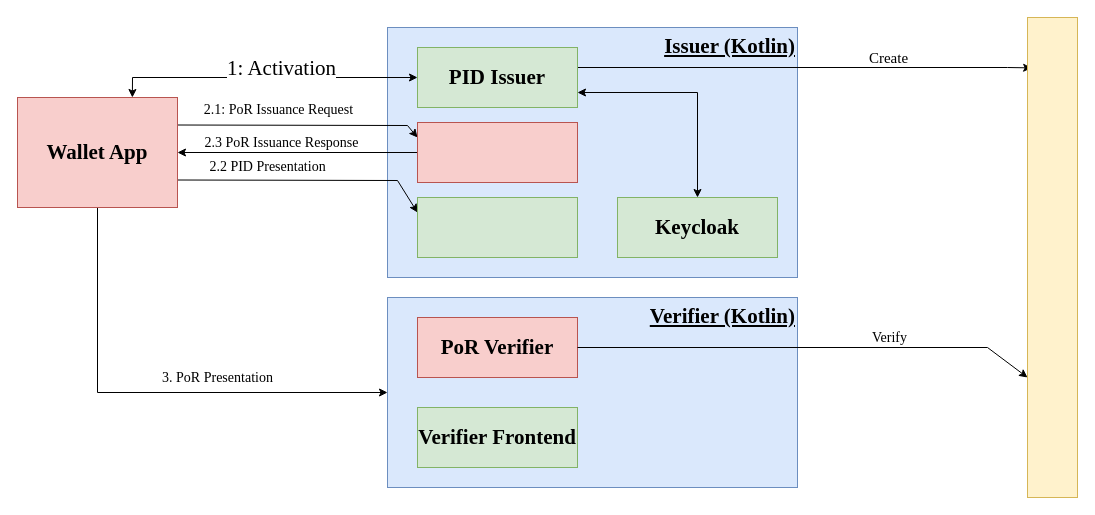
Some shapes in this 1095 by 515 pixel diagram are drawn without their labels. The centre of each missing label's shape, as x and y in pixels:
PID Verifier: [497,227]
PoR Issuer: [497,152]
Status List Provider API: [1052,257]
